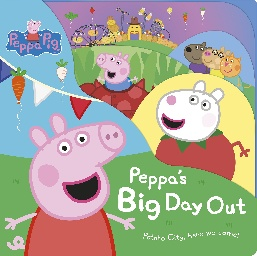Peppa: (3, 114, 140, 256)
